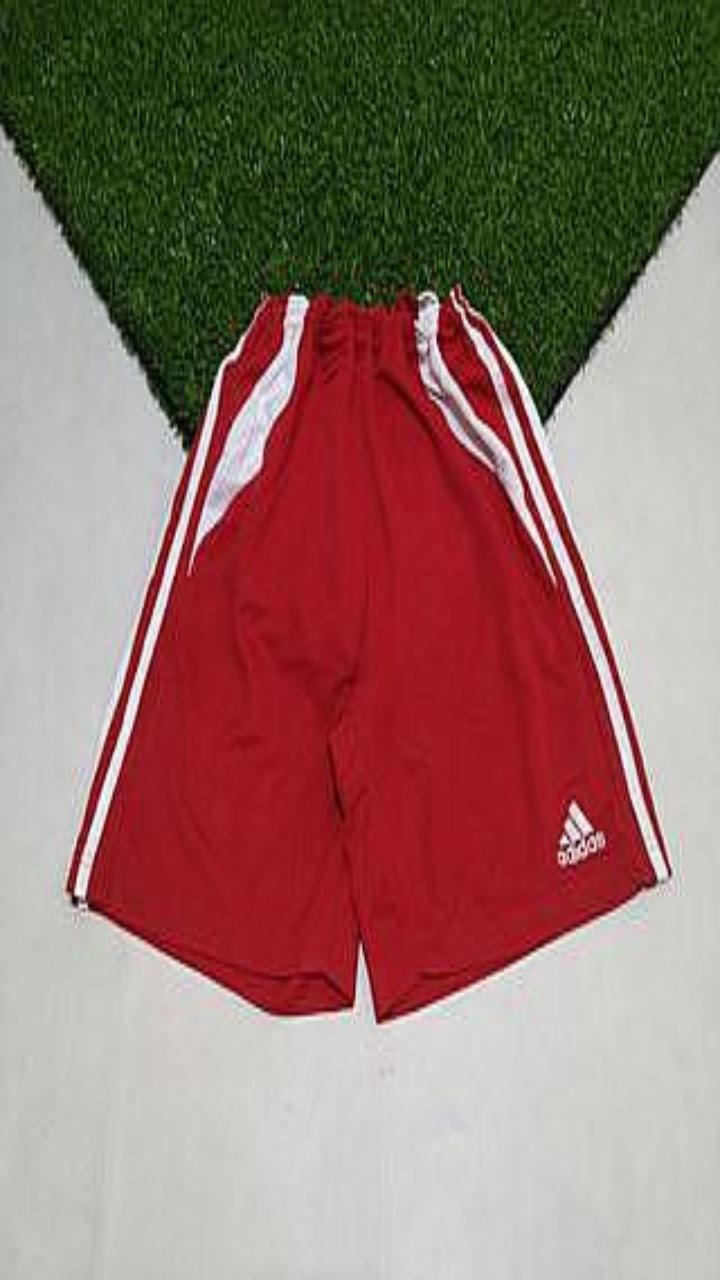Shorts: (66, 285, 669, 1020)
